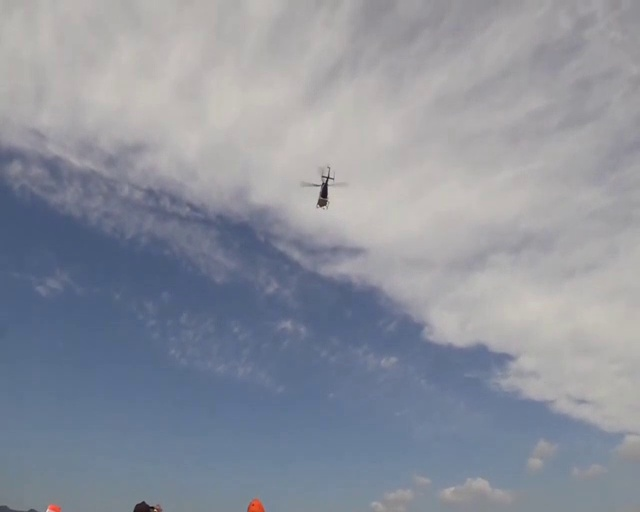HELICOPTER: (300, 164, 349, 210)
